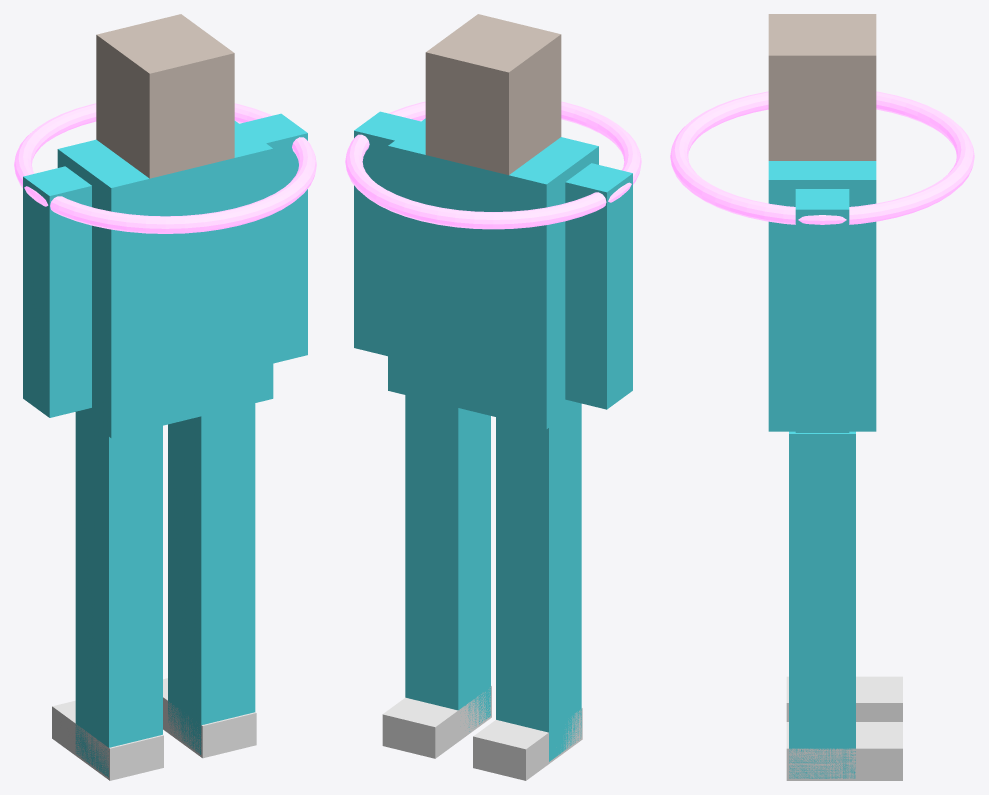
The model's file is CREW_EDI.fbx.
3 renders of one model, left to right at view 1: azimuth 30°, elevation 25°; view 2: azimuth 150°, elevation 25°; view 3: azimuth 270°, elevation 25°, orthographic. The views are drawn at different scales.
Visible parts, largest first — view 1: CREW_EDI; view 2: CREW_EDI; view 3: CREW_EDI.
Part boxes in pixels (x1,y1,x2,y2): CREW_EDI: [14, 14, 316, 780]; CREW_EDI: [345, 14, 641, 780]; CREW_EDI: [670, 14, 974, 780].
Size of the model in its own units: 68 by 175 by 68.
